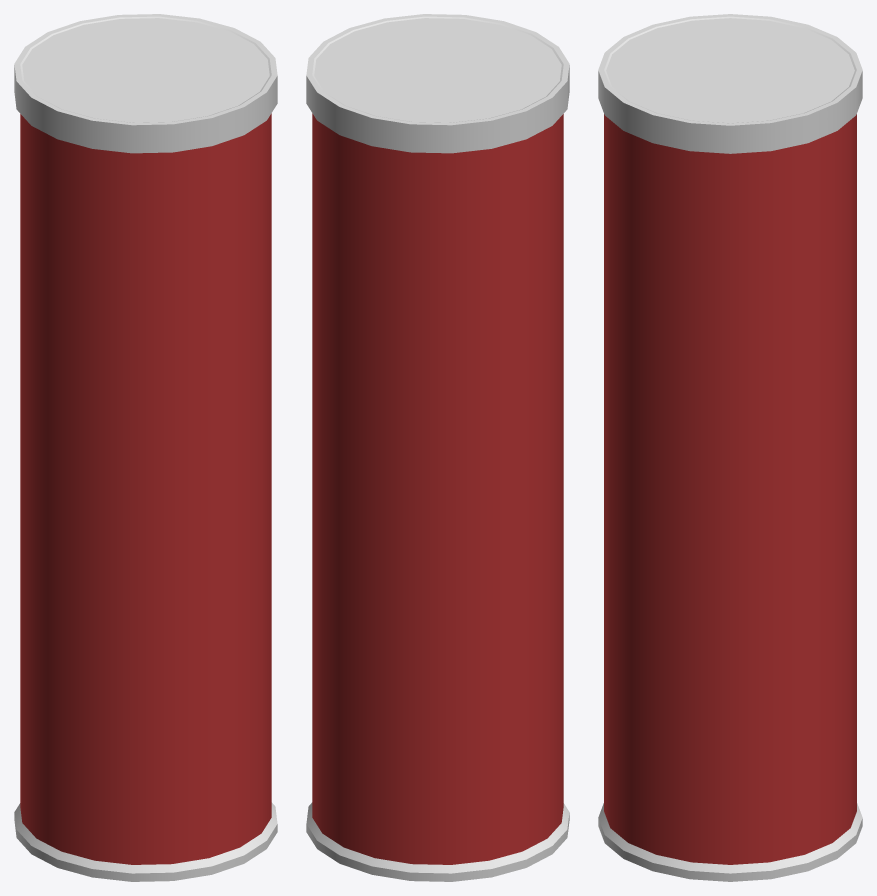
Rendered from pringles.fbx.
The picture shows the model from 3 angles, left to right: view 1: azimuth 30°, elevation 25°; view 2: azimuth 150°, elevation 25°; view 3: azimuth 270°, elevation 25°; orthographic projection.
Parts seen in each view (by area): view 1: pCylinder1, pCylinder2; view 2: pCylinder1, pCylinder2; view 3: pCylinder1, pCylinder2.
Boxes of the visible parts, x1,y1,x2,y2 form: pCylinder1: (14, 113, 277, 881); pCylinder2: (14, 14, 277, 153); pCylinder1: (306, 113, 569, 881); pCylinder2: (306, 14, 569, 153); pCylinder1: (598, 114, 862, 881); pCylinder2: (598, 14, 862, 153).
Bounding box in the file's own units: 2.09 × 6.6 × 2.09.
